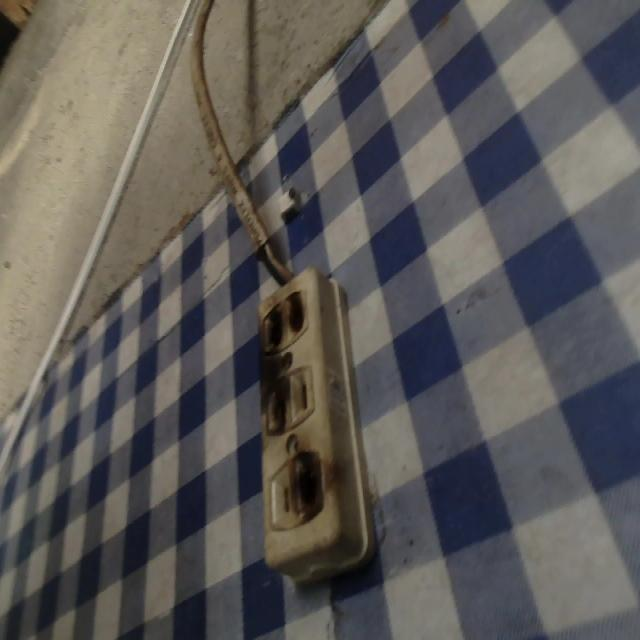-: (285, 447, 328, 522), (258, 288, 306, 351), (261, 368, 294, 431)
